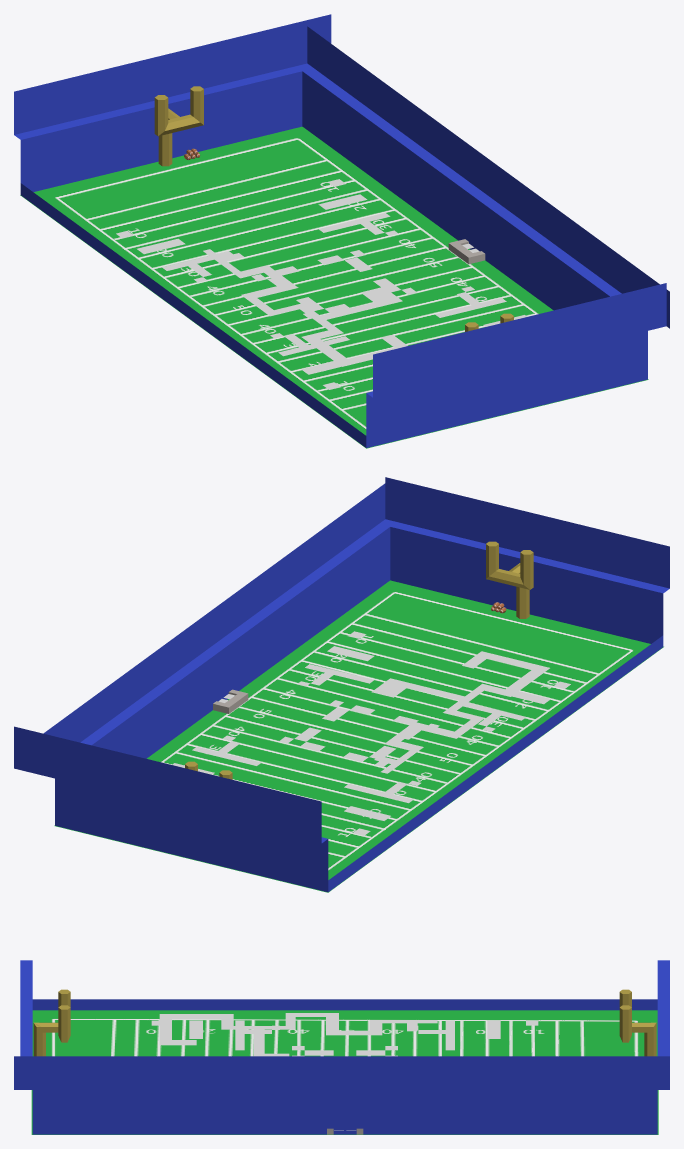
Rendered from maze_01.glb.
The picture shows the model from 3 angles, top to bottom: view 1: azimuth 30°, elevation 25°; view 2: azimuth 150°, elevation 25°; view 3: azimuth 270°, elevation 25°; orthographic projection. The views are drawn at different scales.
Visible parts, largest first — view 1: stadium, ground, goalpostA; view 2: stadium, ground, goalpostB; view 3: stadium, ground, goalpostA, goalpostB, Plane.012, Plane.013.
Boxes of the visible parts, box(x1,y1,x2,y2) form: stadium: box(14, 14, 669, 447); ground: box(20, 126, 648, 448); goalpostA: box(154, 86, 203, 166); stadium: box(14, 477, 669, 892); ground: box(54, 580, 663, 892); goalpostB: box(486, 541, 533, 618); stadium: box(14, 960, 669, 1134); ground: box(31, 1010, 658, 1134); goalpostA: box(619, 989, 656, 1056); goalpostB: box(33, 989, 70, 1056); Plane.012: box(159, 1014, 221, 1019); Plane.013: box(159, 1019, 171, 1045).
Size of the model in its own units: 53.66 by 15.92 by 106.
15 materials, 15 textured.
